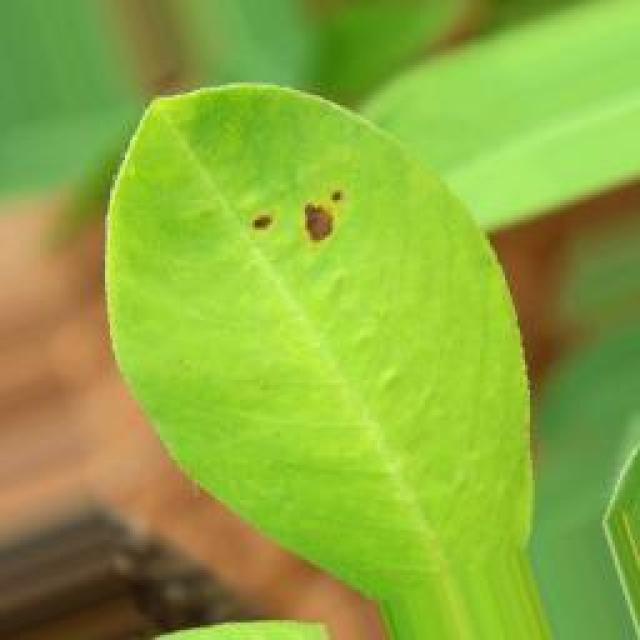Sigatoka: (228, 186, 358, 282)
